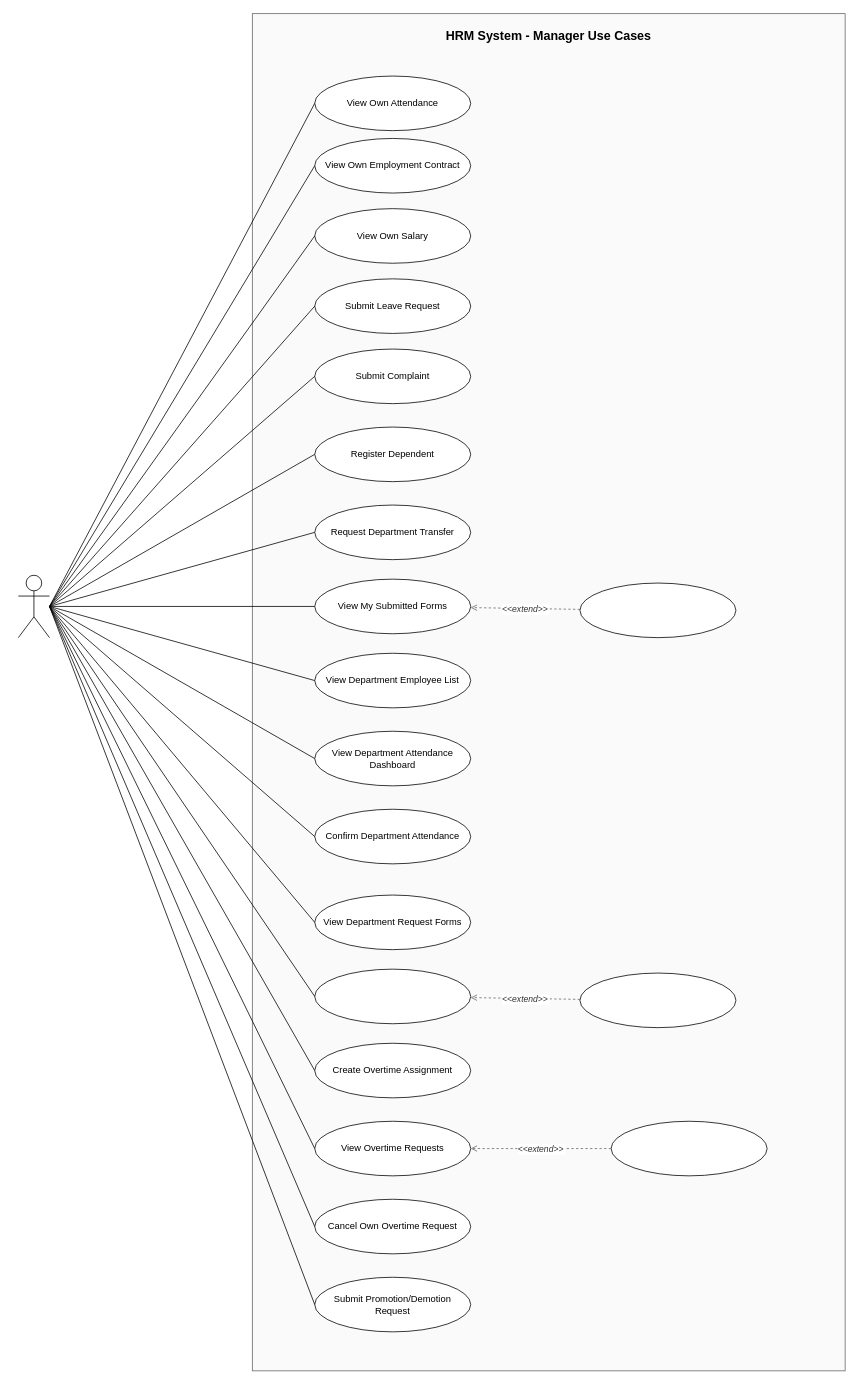
Some shapes in this 859 by 1385 pixel diagram are drawn without their labels. Here are the shapes that lost their labels. From the top down, the centre of each, then its label:
At point 34,606: "Manager".
At point 657,610: "View Form Request Detail".
At point 392,996: "Approve Department Form Request".
At point 657,1000: "Reject Department Form Request".
At point 688,1148: "View Overtime Request Detail".
